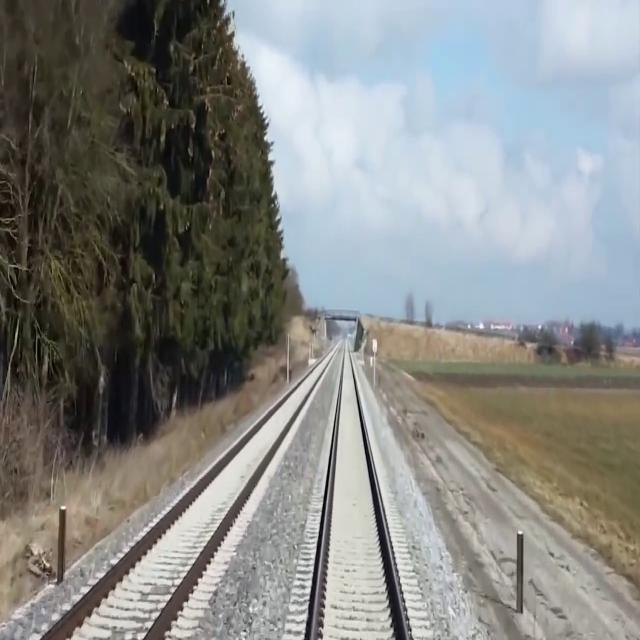rail-track: (50, 352, 332, 639), (313, 346, 404, 639)
